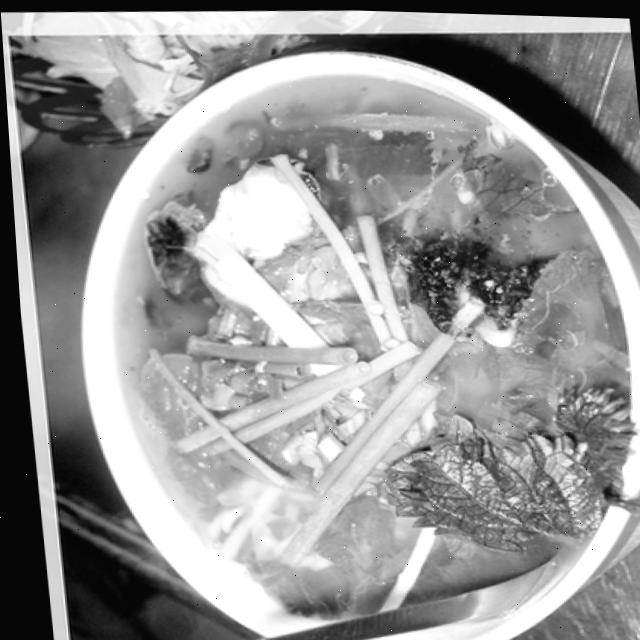面条主食: (25, 17, 640, 640)
